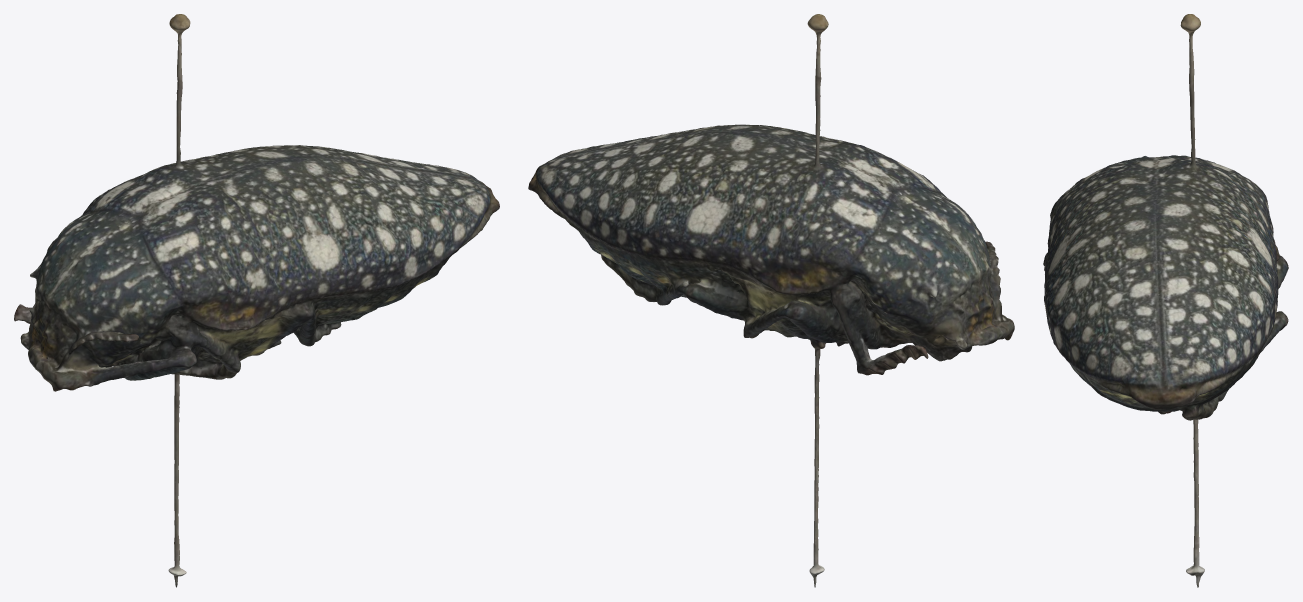
3 views of the same model, side by side, from view 1: azimuth 30°, elevation 25°; view 2: azimuth 150°, elevation 25°; view 3: azimuth 270°, elevation 25° (orthographic).
Parts seen in each view (by area): view 1: Julodis_undetermined-unwrapped-webmulti; view 2: Julodis_undetermined-unwrapped-webmulti; view 3: Julodis_undetermined-unwrapped-webmulti.
Boxes of the visible parts, x1=… form: Julodis_undetermined-unwrapped-webmulti: x1=14, y1=14, x2=499, y2=587; Julodis_undetermined-unwrapped-webmulti: x1=528, y1=14, x2=1014, y2=587; Julodis_undetermined-unwrapped-webmulti: x1=1043, y1=14, x2=1288, y2=587.
Size of the model in its own units: 4149 by 4915 by 1906.
1 material, 1 textured.
